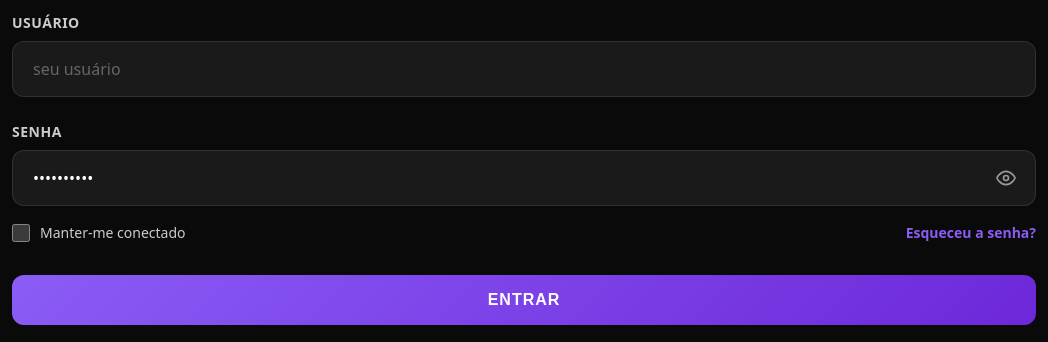
Test: LoginForm › deve alternar visibilidade da senha ao clicar no botão
This screenshot has width=1048, height=342.
Click the button named "mostrar senha": {"x": 1006, "y": 178} [988,160,1024,196]
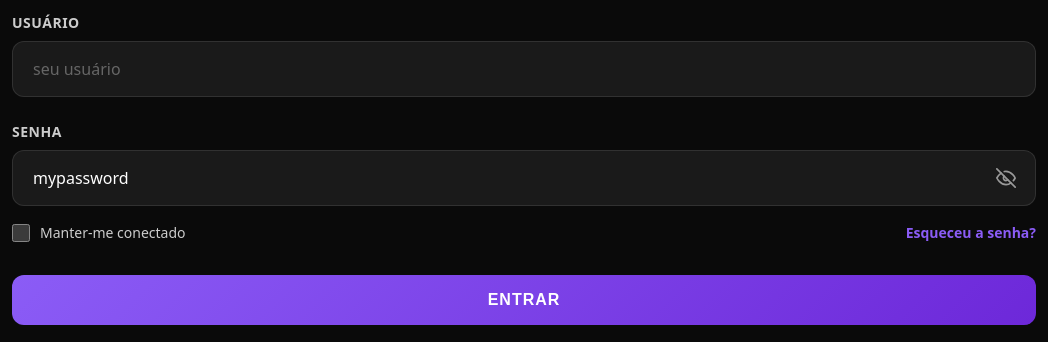
Expected: the field with placeholder "••••••••" shows its text, [12,150,1036,206]
Click the button named "mostrar senha": {"x": 1006, "y": 178} [988,160,1024,196]
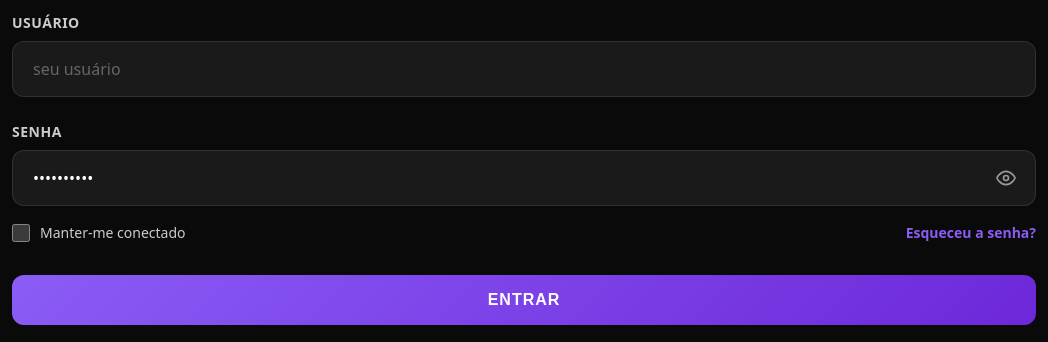
Expected: the password field with placeholder "••••••••" hides its text, [12,150,1036,206]
